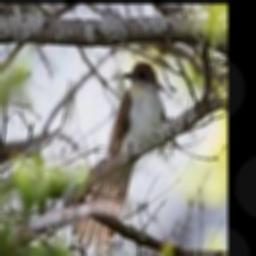Cuckoo: (71, 60, 165, 251)
